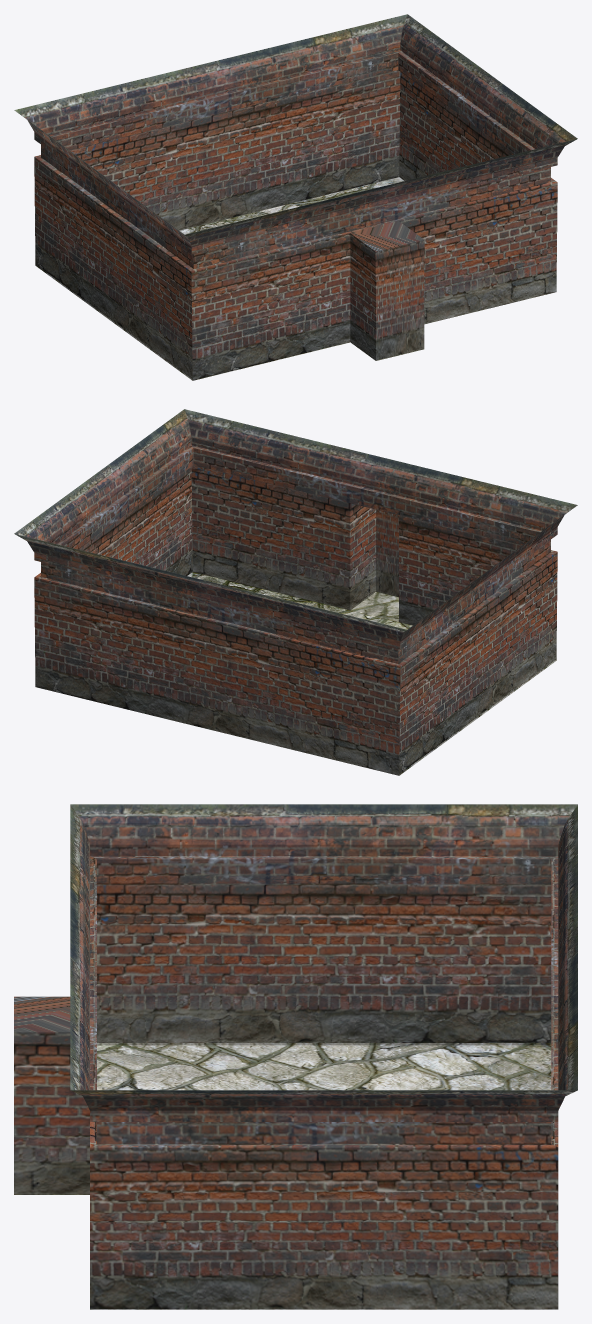
The model's file is RoomTopDoor.fbx.
3 views of the same model, one above another, from view 1: azimuth 30°, elevation 25°; view 2: azimuth 150°, elevation 25°; view 3: azimuth 270°, elevation 25° (orthographic). The views are drawn at different scales.
Visible parts, largest first — view 1: RoomTopDoor; view 2: RoomTopDoor; view 3: RoomTopDoor.
Boxes of the visible parts, x1,y1,x2,y2 form: RoomTopDoor: (14, 14, 577, 380); RoomTopDoor: (14, 409, 577, 775); RoomTopDoor: (14, 804, 577, 1309).
Size of the model in its own units: 800 by 300 by 667.
